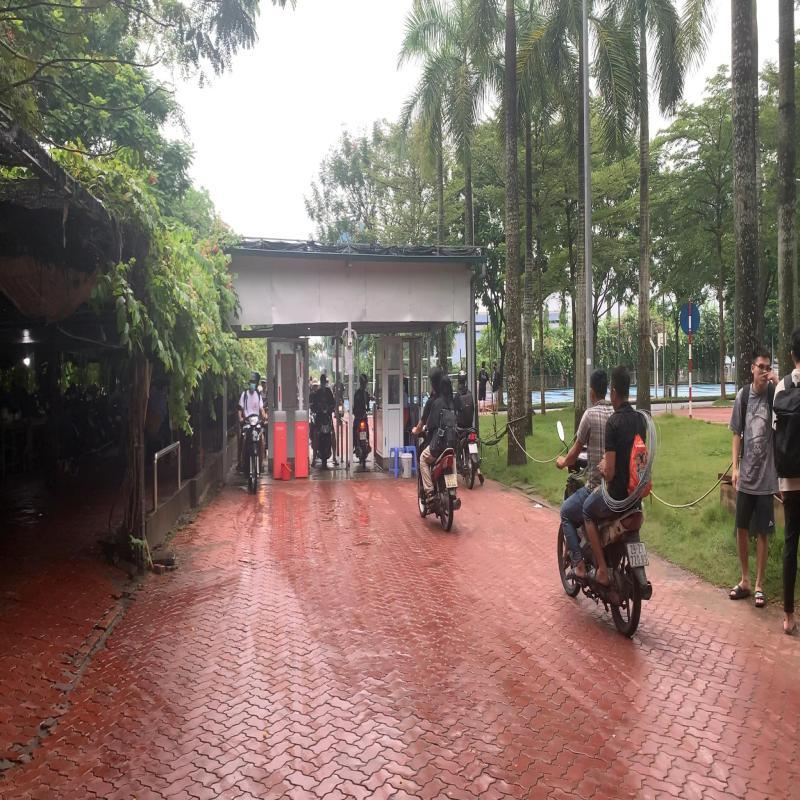licenseplate: (626, 542, 650, 566)
motorcyclist: (554, 361, 661, 636)
nohelmet: (610, 364, 630, 403), (590, 368, 608, 402)
